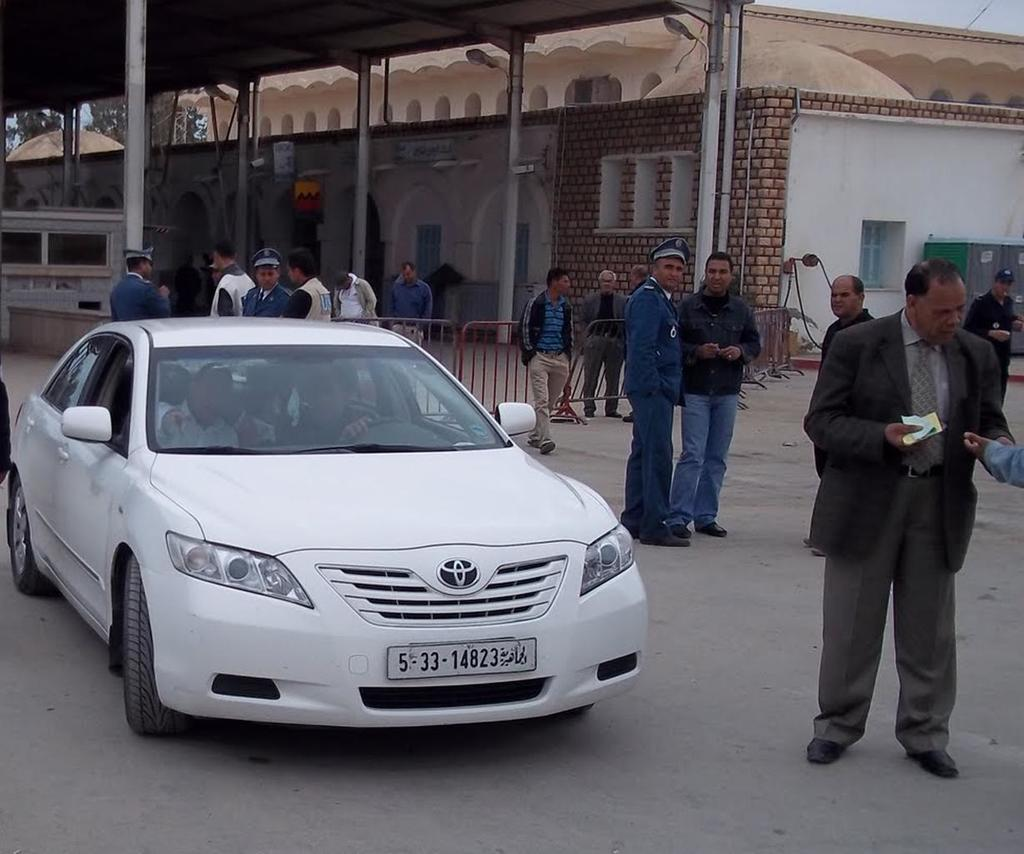Person: (0, 237, 1024, 777)
